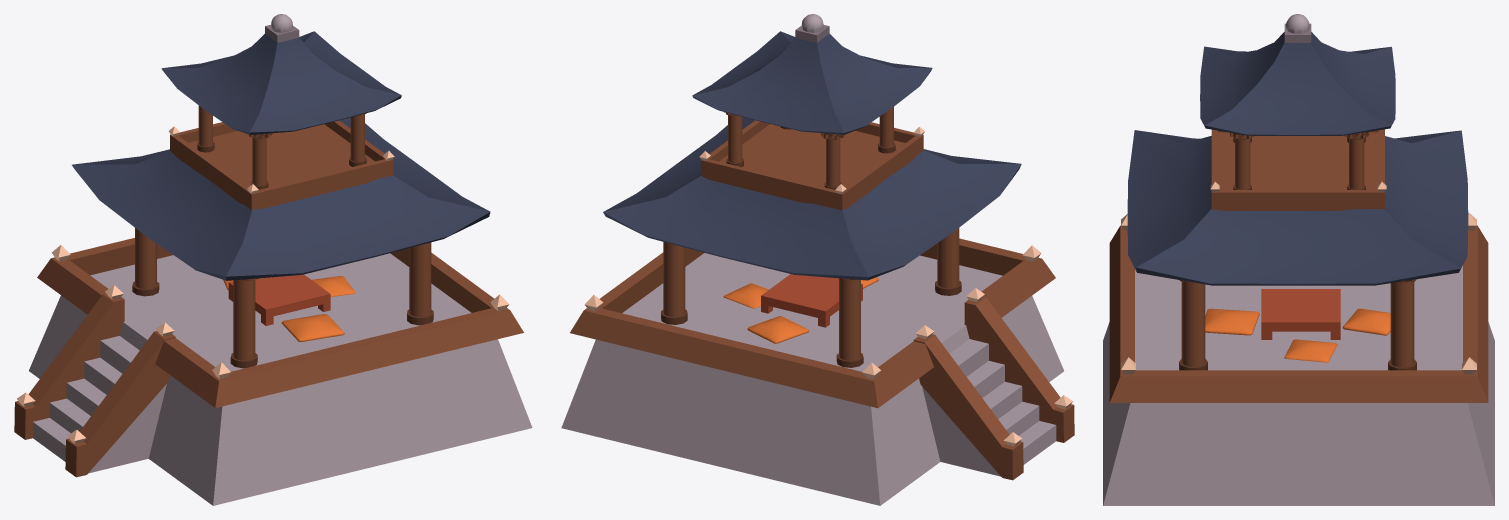
The model's file is alcove012 1.fbx.
3 views of the same model, side by side, from view 1: azimuth 30°, elevation 25°; view 2: azimuth 150°, elevation 25°; view 3: azimuth 270°, elevation 25° (orthographic). The views are drawn at different scales.
Parts seen in each view (by area): view 1: alcove12_1, stairs_12_1_1, column_12_1_1, table_12_1_1, column_12_2_1, pillow_12_2_1, pillow_12_3_1; view 2: alcove12_1, stairs_12_1_1, column_12_1_1, table_12_1_1, column_12_2_1, pillow_12_1_1, pillow_12_3_1; view 3: alcove12_1, column_12_1_1, table_12_1_1, column_12_2_1, pillow_12_2_1, pillow_12_1_1, pillow_12_3_1.
Part boxes in pixels (x1=…): alcove12_1: x1=17, y1=14, x2=532, y2=505; stairs_12_1_1: x1=14, y1=293, x2=175, y2=477; column_12_1_1: x1=132, y1=228, x2=433, y2=368; table_12_1_1: x1=228, y1=274, x2=330, y2=325; column_12_2_1: x1=197, y1=105, x2=366, y2=189; pillow_12_2_1: x1=281, y1=314, x2=344, y2=341; pillow_12_3_1: x1=312, y1=276, x2=355, y2=296; alcove12_1: x1=561, y1=14, x2=1072, y2=505; stairs_12_1_1: x1=913, y1=297, x2=1074, y2=480; column_12_1_1: x1=661, y1=228, x2=961, y2=367; table_12_1_1: x1=761, y1=274, x2=862, y2=327; column_12_2_1: x1=724, y1=107, x2=895, y2=189; pillow_12_1_1: x1=747, y1=316, x2=808, y2=343; pillow_12_3_1: x1=723, y1=283, x2=768, y2=308; alcove12_1: x1=1103, y1=14, x2=1494, y2=505; column_12_1_1: x1=1179, y1=279, x2=1416, y2=370; table_12_1_1: x1=1261, y1=289, x2=1340, y2=339; column_12_2_1: x1=1230, y1=132, x2=1369, y2=189; pillow_12_2_1: x1=1205, y1=308, x2=1259, y2=335; pillow_12_1_1: x1=1342, y1=308, x2=1390, y2=335; pillow_12_3_1: x1=1284, y1=339, x2=1337, y2=362.
Size of the model in its own units: 1397 by 1306 by 1135.
